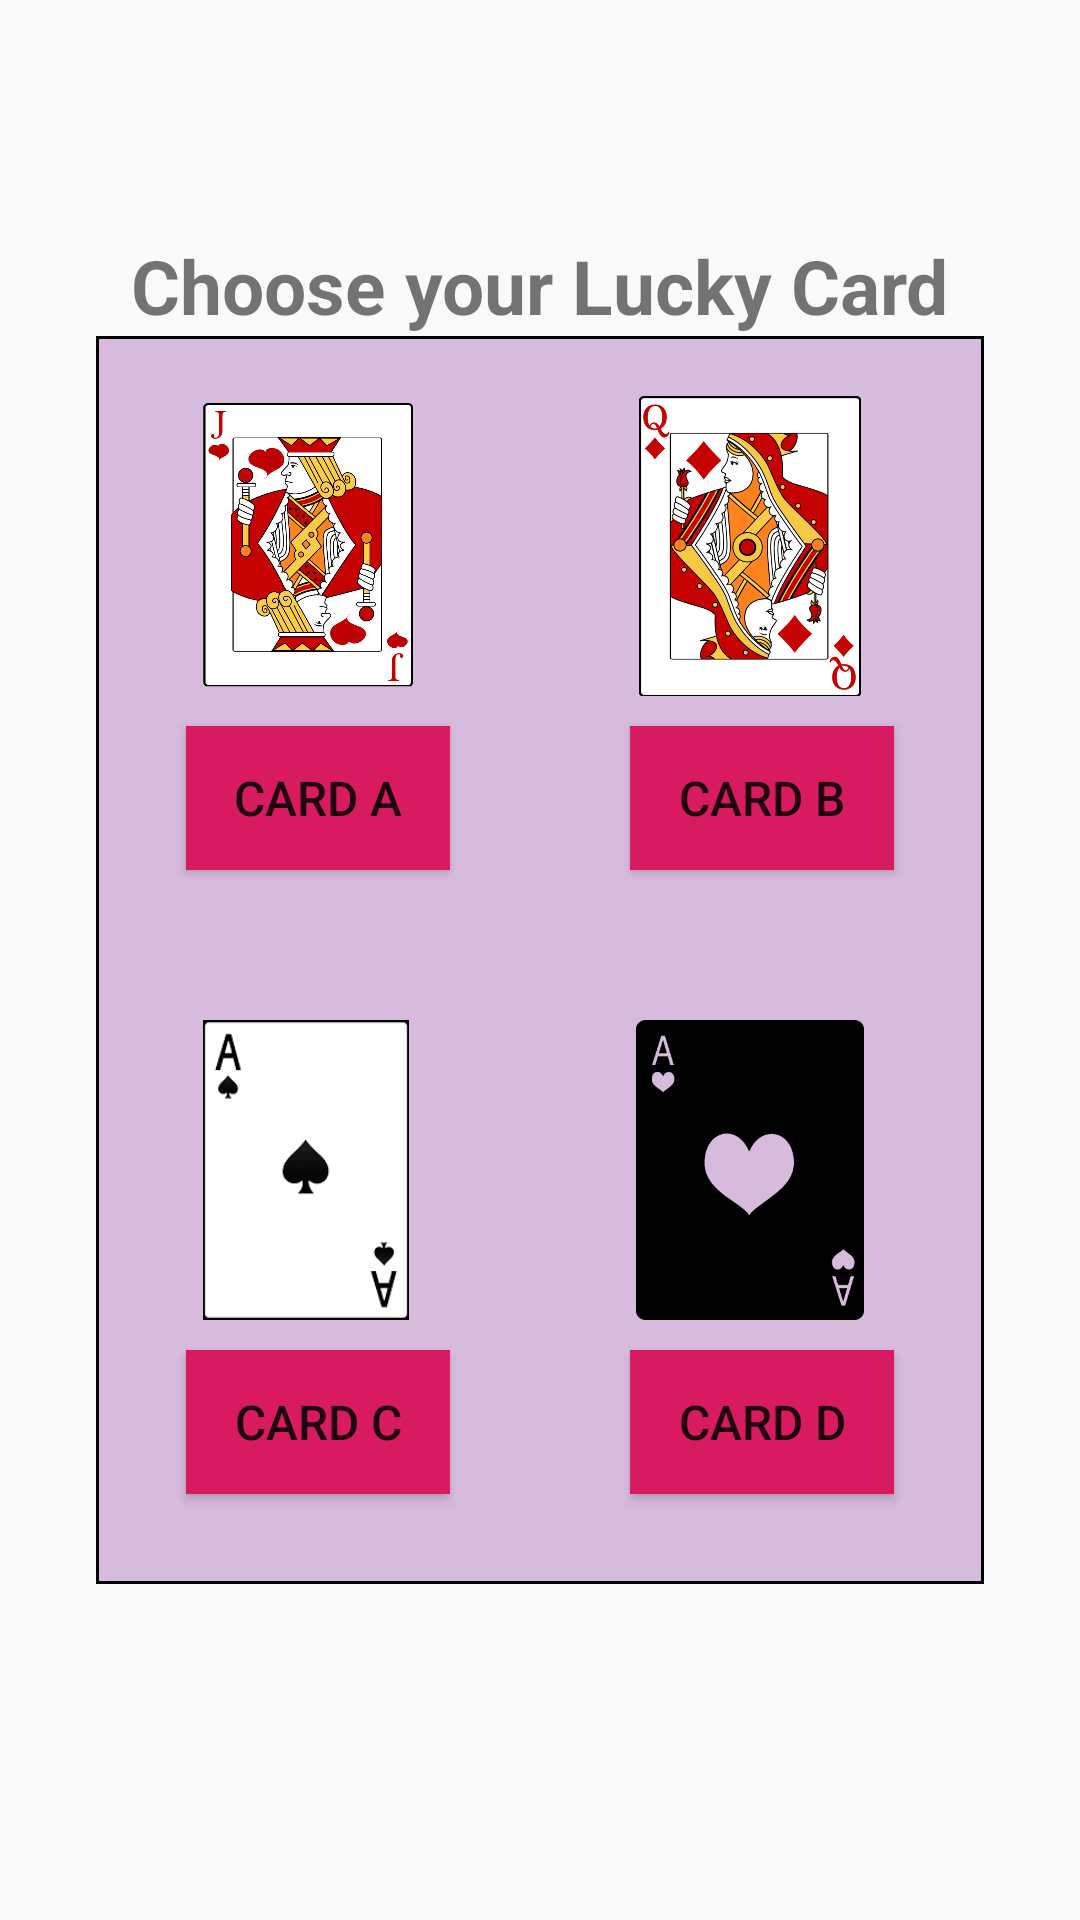

Icon click points for this 1080w x 1920h phone screenshot, format point (x, y):
hearts: point (750, 1170)
jack of hearts: point (308, 545)
queen of diamonds: point (750, 546)
spade: point (306, 1170)
